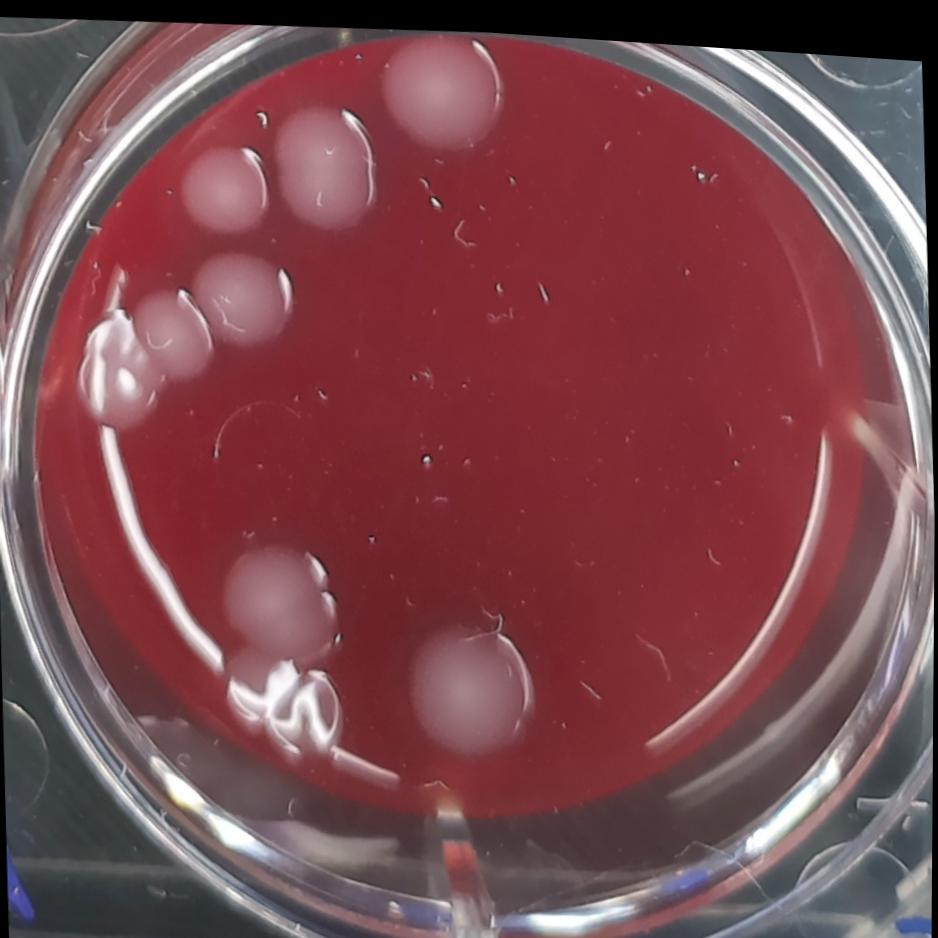pddamselae: (69, 276, 225, 446), (397, 611, 543, 766), (375, 20, 519, 159), (212, 526, 347, 673), (267, 87, 386, 232), (178, 239, 308, 354), (228, 648, 356, 761), (174, 130, 275, 238)
